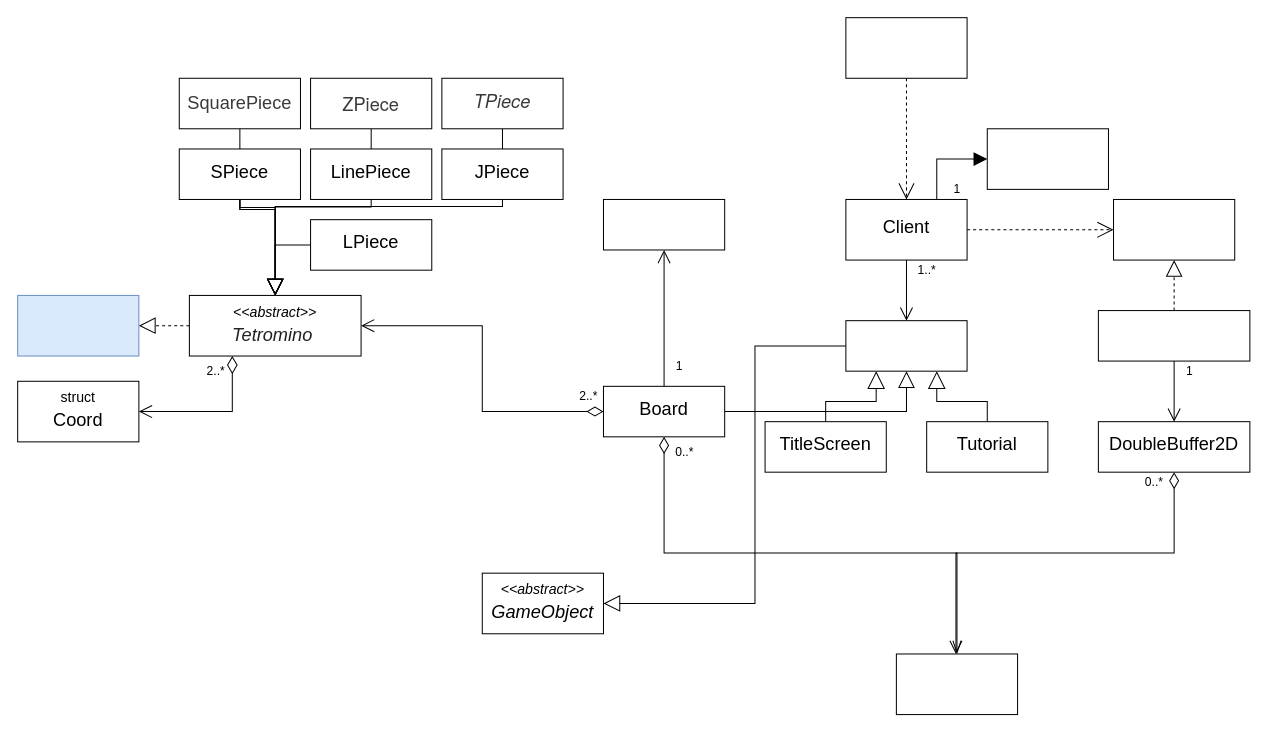
This 1268x732 diagram has some shape labels left out. Here are the shapes that lost their labels. From the top down, the centre of each, then its label:
At (906,47): "Program".
At (1047,158): "enum Dir".
At (663,224): "struct Score".
At (1174,229): "<<interface>> IDisplay".
At (78,325): "<<interface>> IEnumerable".
At (906,345): "<<abstract>> Scene".
At (1173,335): "ConsoleDisplay".
At (956,684): "struct Pixel".
